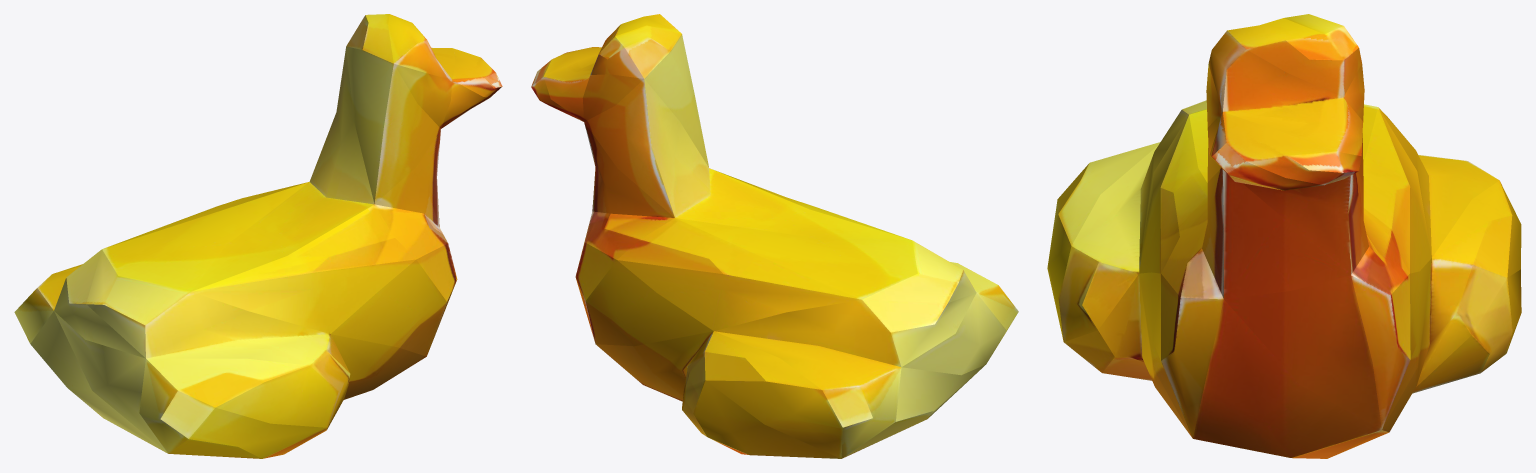
Rendered from yellow.glb.
The picture shows the model from 3 angles, left to right: view 1: azimuth 30°, elevation 25°; view 2: azimuth 150°, elevation 25°; view 3: azimuth 270°, elevation 25°; orthographic projection. The views are drawn at different scales.
Visible parts, largest first — view 1: mvadapter_node_i2tex_yelow; view 2: mvadapter_node_i2tex_yelow; view 3: mvadapter_node_i2tex_yelow.
Boxes of the visible parts, x1,y1,x2,y2 form: mvadapter_node_i2tex_yelow: (14,14,502,458); mvadapter_node_i2tex_yelow: (531,14,1018,458); mvadapter_node_i2tex_yelow: (1047,14,1521,458).
Size of the model in its own units: 11.88 by 9.39 by 8.82.
1 material, 1 textured.
